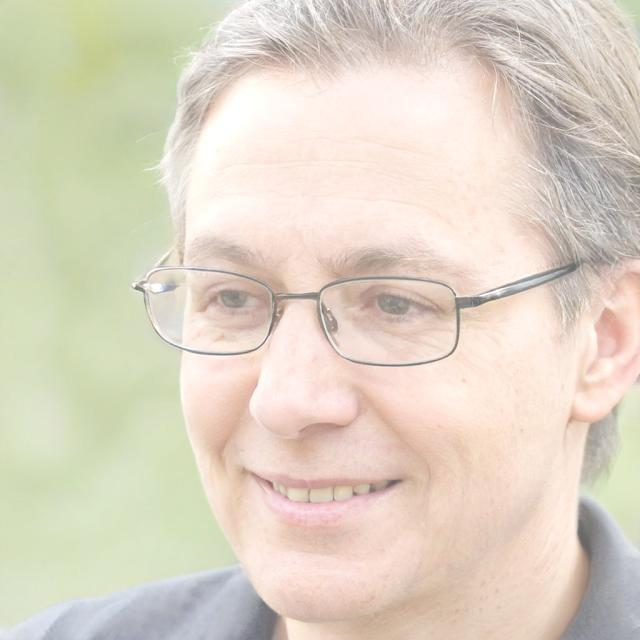lens: (320, 278, 460, 366), (148, 269, 273, 352)
